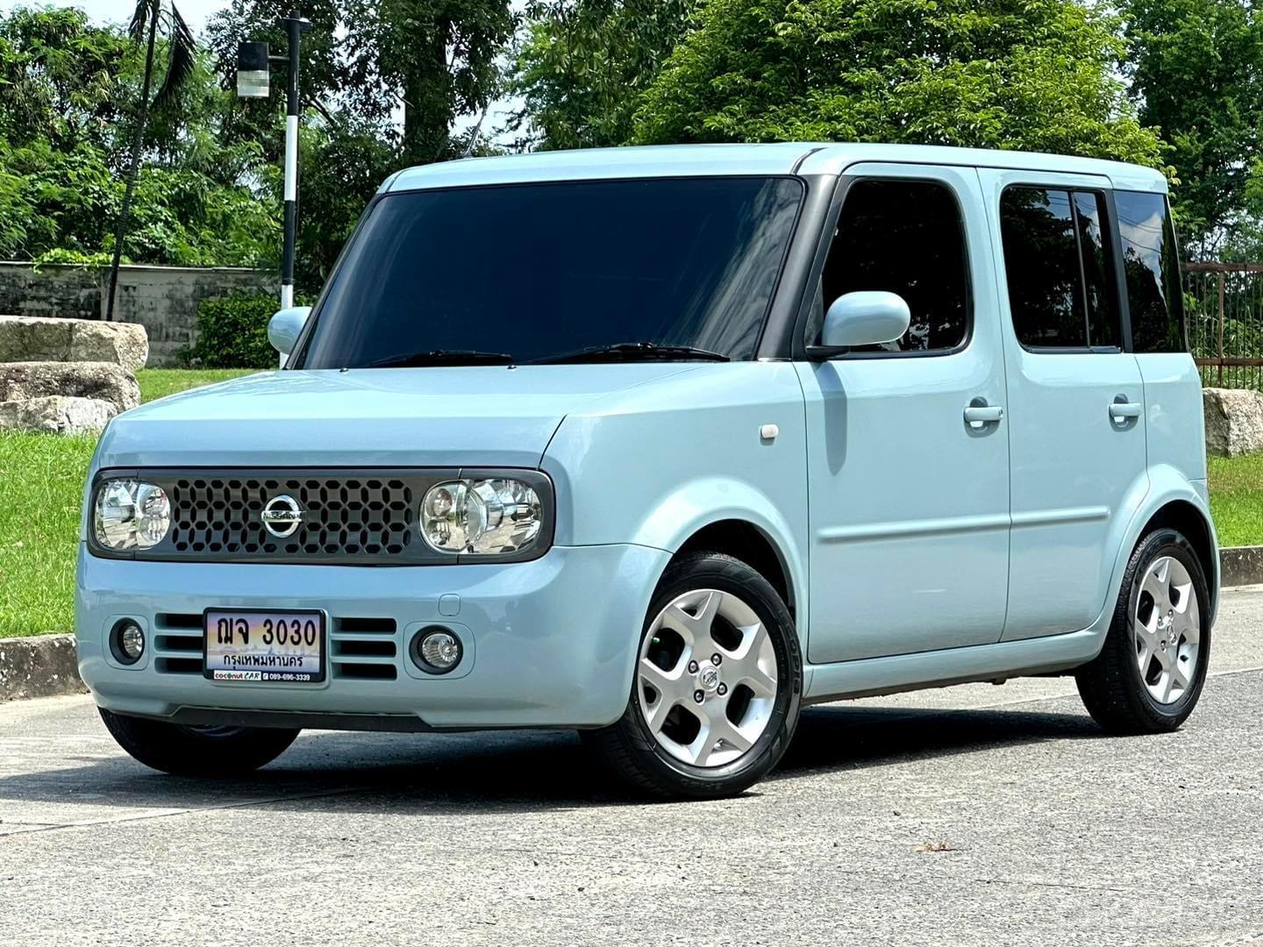license-plate: (183, 590, 347, 703)
